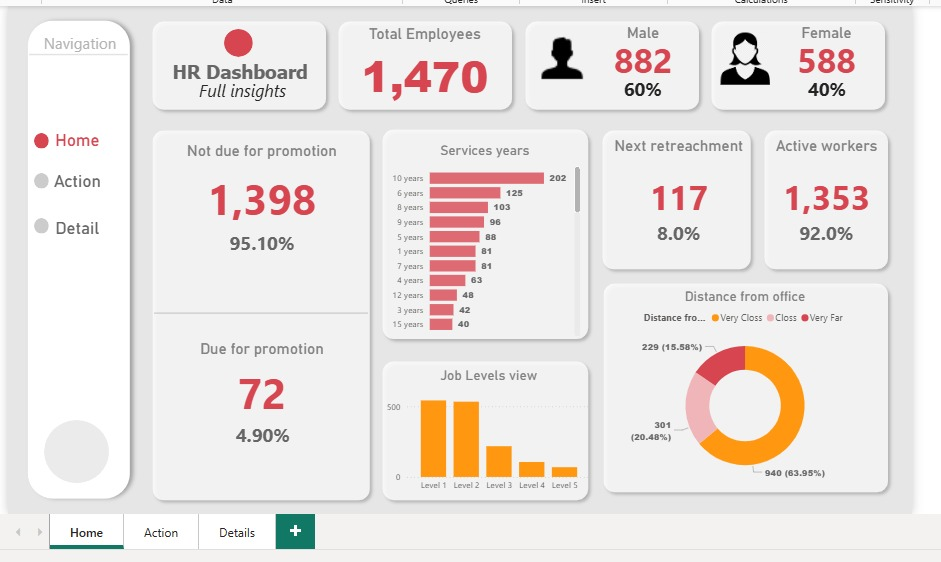

What the dashboard file says about the page in this screenshot:
{"tool":"powerbi","page":{"name":"Home","canvas":[1280,720],"ordinal":0},"visuals":[{"type":"shape","box":[0,0,162.9,682.2],"z":0},{"type":"shape","box":[208,11.6,240,154.2],"z":1000},{"type":"shape","box":[480,11.6,203.6,154.2],"z":2000},{"type":"shape","box":[744.7,11.6,225.5,154.2],"z":3000},{"type":"shape","box":[1012.4,11.6,232.7,154.2],"z":4000},{"type":"shape","box":[222.5,206.5,289.5,500.4],"z":5000},{"type":"shape","box":[561.5,206.5,290.9,256],"z":6000},{"type":"shape","box":[561.5,485.8,290.9,221.1],"z":7000},{"type":"shape","box":[888.7,206.5,240,173.1],"z":8000},{"type":"shape","box":[1143.3,206.5,123.6,173.1],"z":9000},{"type":"shape","box":[888.7,410.2,378.2,296.7],"z":10000},{"type":"textbox","box":[208,82.9,240,65.5],"z":11000},{"type":"textbox","box":[208,129.5,250.2,36.4],"z":12000},{"type":"shape","box":[269.1,16,128,66.9],"z":13000},{"type":"card","title":"Total Employees","fields":{"Values":["All Measures.Total Emp"]},"box":[480,16,203.6,151.3],"z":14000},{"type":"card","title":"Total Male","fields":{"Values":["All Measures.Male"]},"box":[849.5,16,120.7,100.4],"z":15000},{"type":"card","title":"Total Female","fields":{"Values":["All Measures.Female"]},"box":[1104,11.6,141.1,120.7],"z":16000},{"type":"card","title":"Total Male","fields":{"Values":["All Measures.% male"]},"box":[843.6,88.7,132.4,90.2],"z":17000},{"type":"card","title":"Total Male","fields":{"Values":["All Measures.% female"]},"box":[1112.7,91.6,132.4,90.2],"z":18000},{"type":"image","box":[753.5,37.8,96,90.2],"z":19000},{"type":"image","box":[1032.7,45.1,80,82.9],"z":20000},{"type":"card","title":"Count Employees commission","fields":{"Values":["All Measures.Dou for commission"]},"box":[248.7,222.5,231.3,187.6],"z":21000},{"type":"card","title":"Total Male","fields":{"Values":["All Measures.%  Due commmission"]},"box":[298.2,365.1,132.4,90.2],"z":22000},{"type":"card","title":"Count Employees not commission","fields":{"Values":["All Measures.Not Due for commission"]},"box":[248.7,449.5,231.3,187.6],"z":23000},{"type":"card","title":"Total Male","fields":{"Values":["All Measures.% not Due"]},"box":[298.2,587.6,132.4,90.2],"z":24000},{"type":"shape","box":[222.5,292.4,292.4,299.6],"z":25000},{"type":"barChart","title":"Count Total employee by Egypt_City","fields":{"Y":["CountNonNull(Employees.Full name employee)"],"Category":["Employees.Egypt_City"]},"box":[561.5,206.5,288,256],"z":26000},{"type":"donutChart","fields":{"Y":["CountNonNull(Employees.Employee_ID)"],"Category":["Departments.Department_Name"]},"box":[888.7,410.2,378.2,296.7],"z":27000},{"type":"card","title":"Total Salery","fields":{"Values":["Sum(Employees.Salary)"]},"box":[891.6,212.4,240,173.1],"z":28000},{"type":"card","title":"Count Deparment","fields":{"Values":["CountNonNull(Departments.Department_Name)"]},"box":[1140.4,206.5,126.5,173.1],"z":29000},{"type":"clusteredColumnChart","fields":{"Category":["Jobs.Job_Title"],"Y":["CountNonNull(Employees.Manager_ID)"]},"box":[561.5,485.8,296.7,221.1],"z":30000},{"type":"actionButton","title":"Home","box":[23.3,212.4,139.6,30.5],"z":31000},{"type":"actionButton","title":"Action","box":[23.3,283.6,139.6,56.7],"z":32000},{"type":"shape","box":[34.9,551.3,93.1,90.2],"z":33000}]}

Visuals, with their boxes on the page's 1280x720 design canvas (x1, y1, x2, y2). These are canvas units, not pixel positions in the 941x562 screenshot, which may show the page scaled, cropped or inside an application window:
shape: crop(0, 0, 163, 682)
shape: crop(208, 12, 448, 166)
shape: crop(480, 12, 684, 166)
shape: crop(745, 12, 970, 166)
shape: crop(1012, 12, 1245, 166)
shape: crop(222, 206, 512, 707)
shape: crop(562, 206, 852, 462)
shape: crop(562, 486, 852, 707)
shape: crop(889, 206, 1129, 380)
shape: crop(1143, 206, 1267, 380)
shape: crop(889, 410, 1267, 707)
textbox: crop(208, 83, 448, 148)
textbox: crop(208, 130, 458, 166)
shape: crop(269, 16, 397, 83)
"Total Employees" card: crop(480, 16, 684, 167)
"Total Male" card: crop(850, 16, 970, 116)
"Total Female" card: crop(1104, 12, 1245, 132)
"Total Male" card: crop(844, 89, 976, 179)
"Total Male" card: crop(1113, 92, 1245, 182)
image: crop(754, 38, 850, 128)
image: crop(1033, 45, 1113, 128)
"Count Employees commission" card: crop(249, 222, 480, 410)
"Total Male" card: crop(298, 365, 431, 455)
"Count Employees not commission" card: crop(249, 450, 480, 637)
"Total Male" card: crop(298, 588, 431, 678)
shape: crop(222, 292, 515, 592)
"Count Total employee by Egypt_City" barChart: crop(562, 206, 850, 462)
donutChart - CountNonNull(Employees.Employee_ID) x Departments.Department_Name: crop(889, 410, 1267, 707)
"Total Salery" card: crop(892, 212, 1132, 386)
"Count Deparment" card: crop(1140, 206, 1267, 380)
clusteredColumnChart - Jobs.Job_Title x CountNonNull(Employees.Manager_ID): crop(562, 486, 858, 707)
"Home" actionButton: crop(23, 212, 163, 243)
"Action" actionButton: crop(23, 284, 163, 340)
shape: crop(35, 551, 128, 642)
